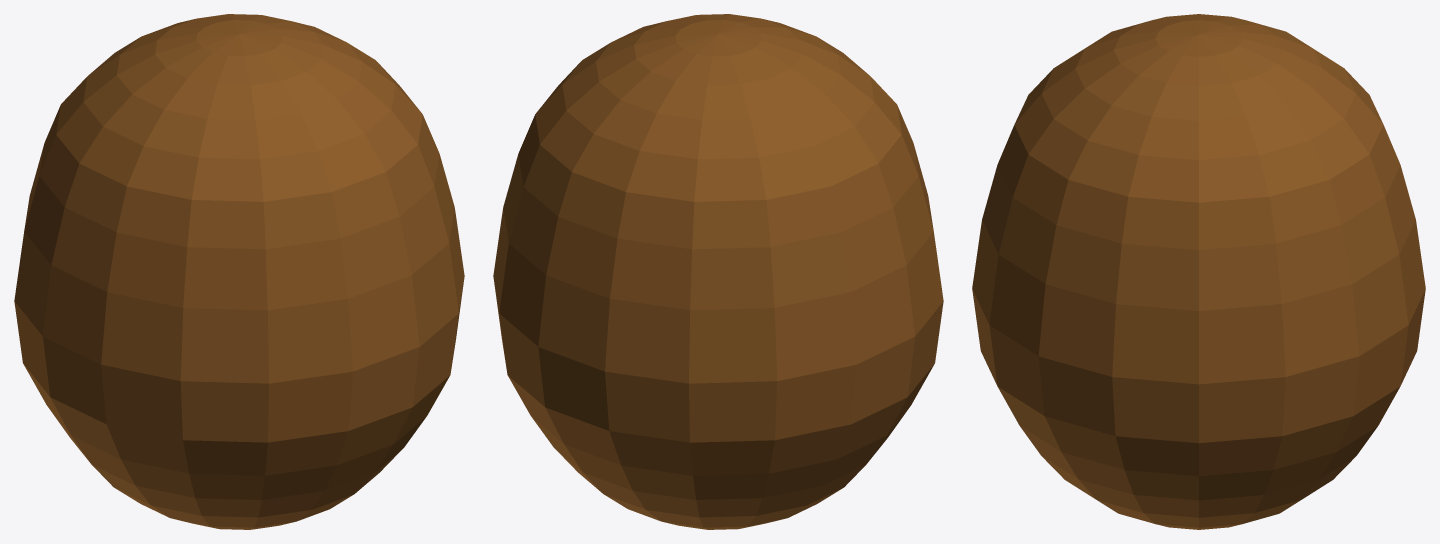
Rendered from egg.fbx.
3 renders of one model, left to right at view 1: azimuth 30°, elevation 25°; view 2: azimuth 150°, elevation 25°; view 3: azimuth 270°, elevation 25°, orthographic.
Parts seen in each view (by area): view 1: egg; view 2: egg; view 3: egg.
Part boxes in pixels (<box>): egg: <box>14,14,464,529</box>; egg: <box>493,14,943,529</box>; egg: <box>972,14,1425,529</box>.
Bounding box in the file's own units: 43.88 × 50.93 × 43.88.
